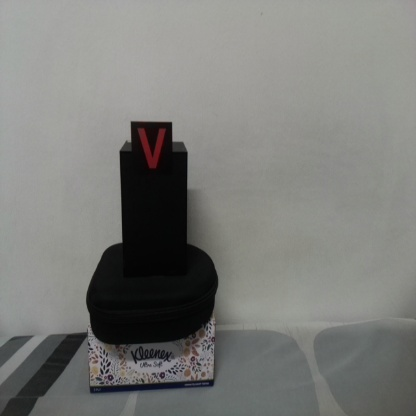id_11: (131, 123, 172, 179)
